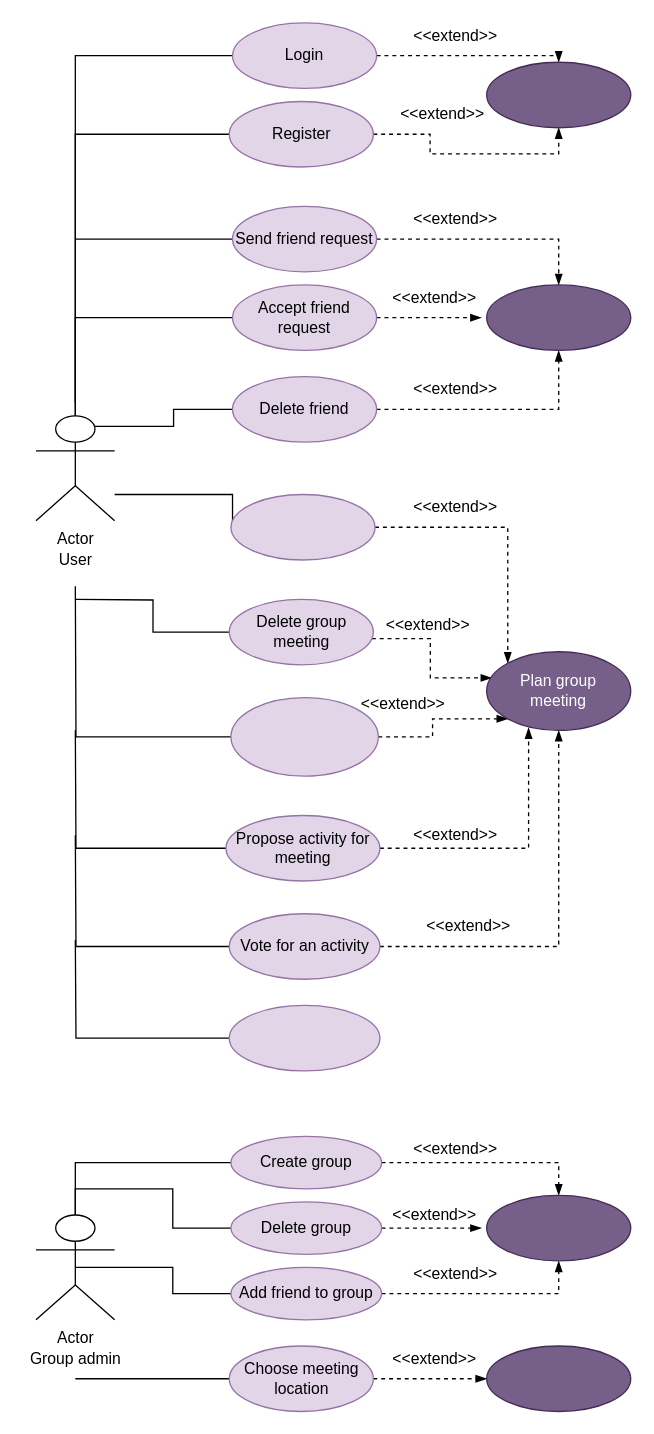
This 654x1434 diagram has some shape labels left out. Each missing label, with the centre of its shape:
"Create group meeting" belongs at point 302,526.
"Manage friends" belongs at point 558,317.
"Manage group" belongs at point 558,1227.
"Report a bug" belongs at point 304,1037.
"Schedule group meeting" belongs at point 558,1378.
"Share free time with a group" belongs at point 304,736.
"Use the app" belongs at point 558,94.
